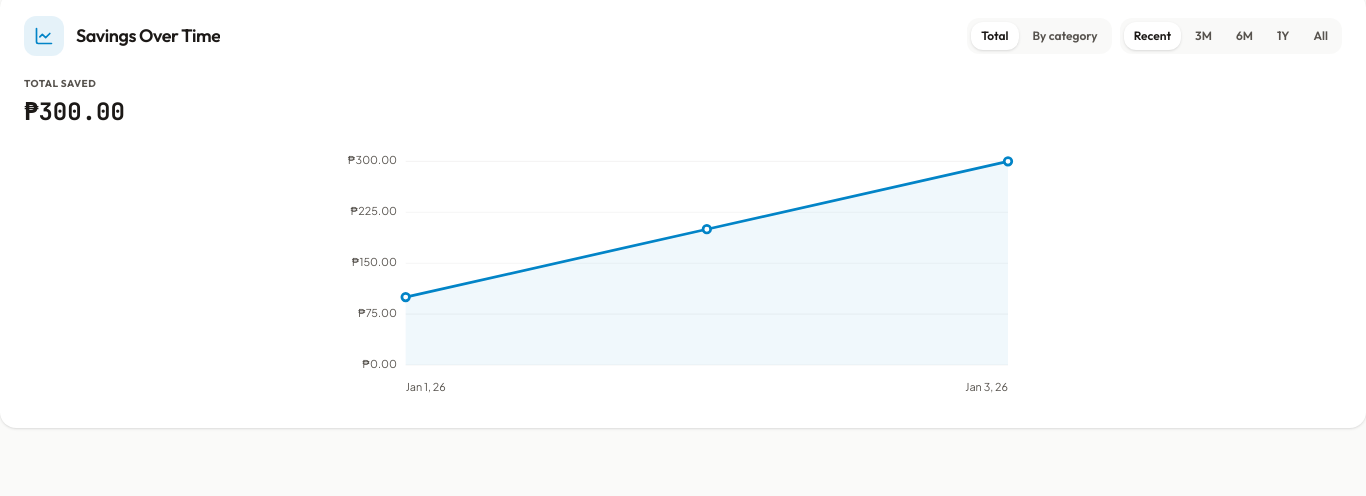
it: SavingsGraph › retains previously displayed chart data when a later request fails (Req 11.2)
Expected: the text "₱300.00" is shown, [24,96,125,128]
Click the button "3M": click(1204, 36) [1185,22,1222,50]
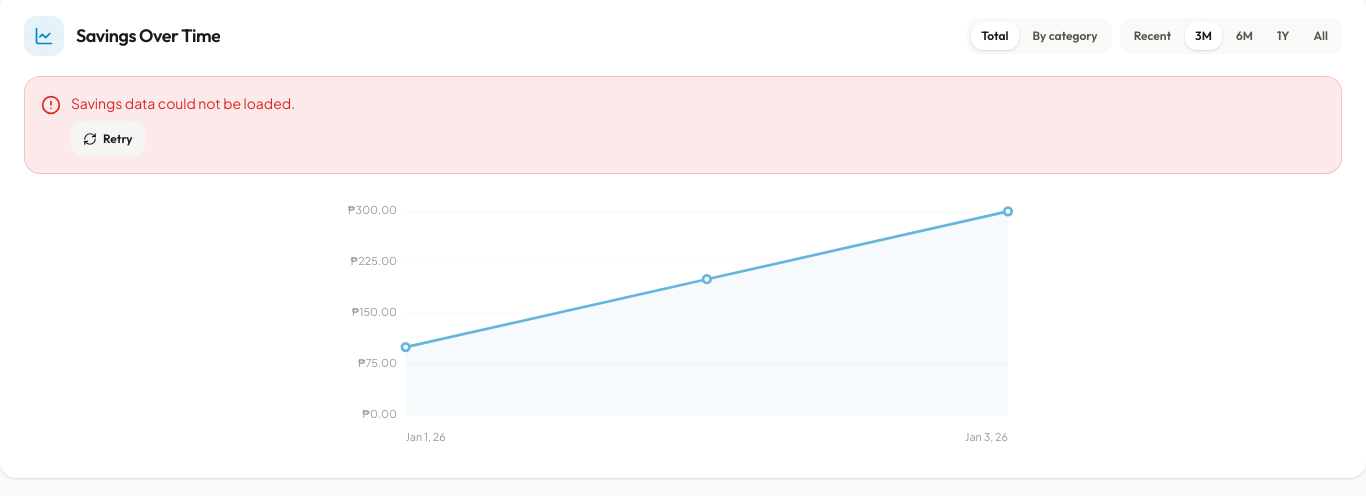
Result: the message "Savings data could not be loaded. Retry" is shown at [24,76,1342,174]
Result: the button "Retry" is enabled at [71,121,145,157]
